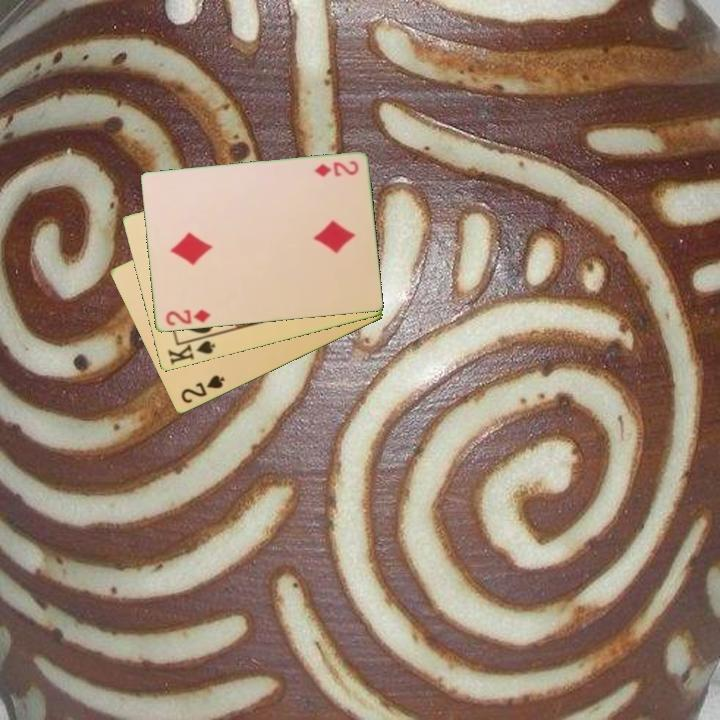2d: (162, 306, 213, 329), (311, 157, 361, 180)
2s: (177, 371, 228, 407)
Ks: (164, 332, 218, 368)
